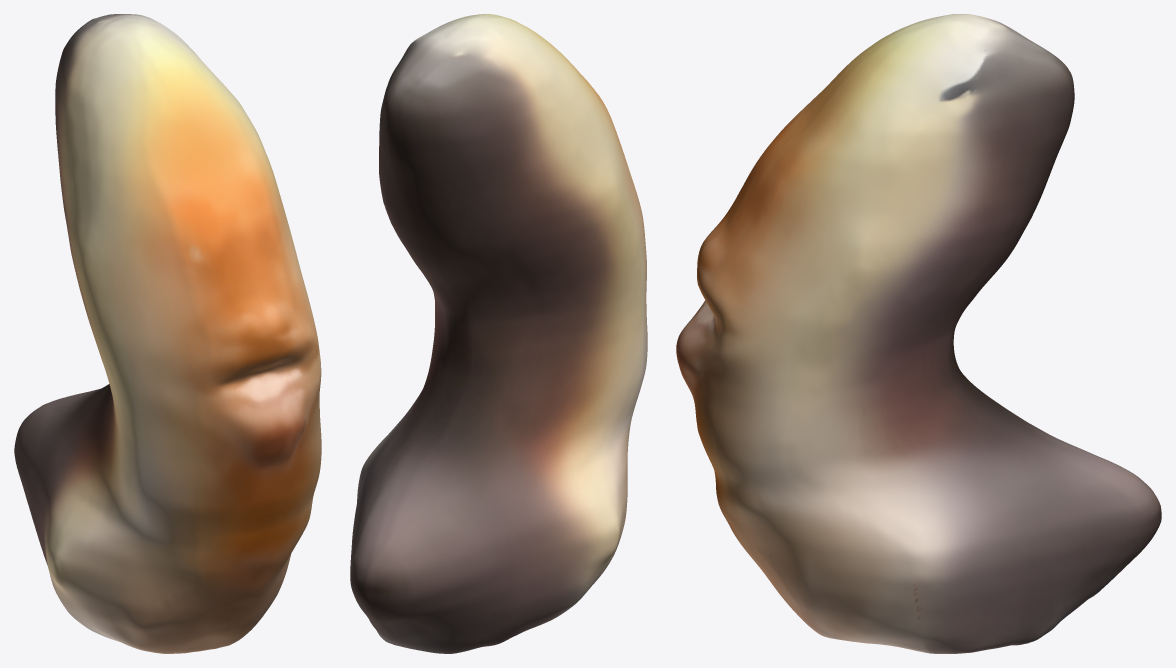
The model's file is lebron.glb.
3 renders of one model, left to right at view 1: azimuth 30°, elevation 25°; view 2: azimuth 150°, elevation 25°; view 3: azimuth 270°, elevation 25°, orthographic. The views are drawn at different scales.
Parts seen in each view (by area): view 1: Retopo_model; view 2: Retopo_model; view 3: Retopo_model.
Boxes of the visible parts, left/top/right/bottom form: Retopo_model: left=14, top=14, right=321, bottom=653; Retopo_model: left=350, top=14, right=647, bottom=653; Retopo_model: left=676, top=14, right=1161, bottom=653.
Bounding box in the file's own units: 0.4277 × 1.05 × 0.7673.
Materials: 1 (1 with a texture image).
